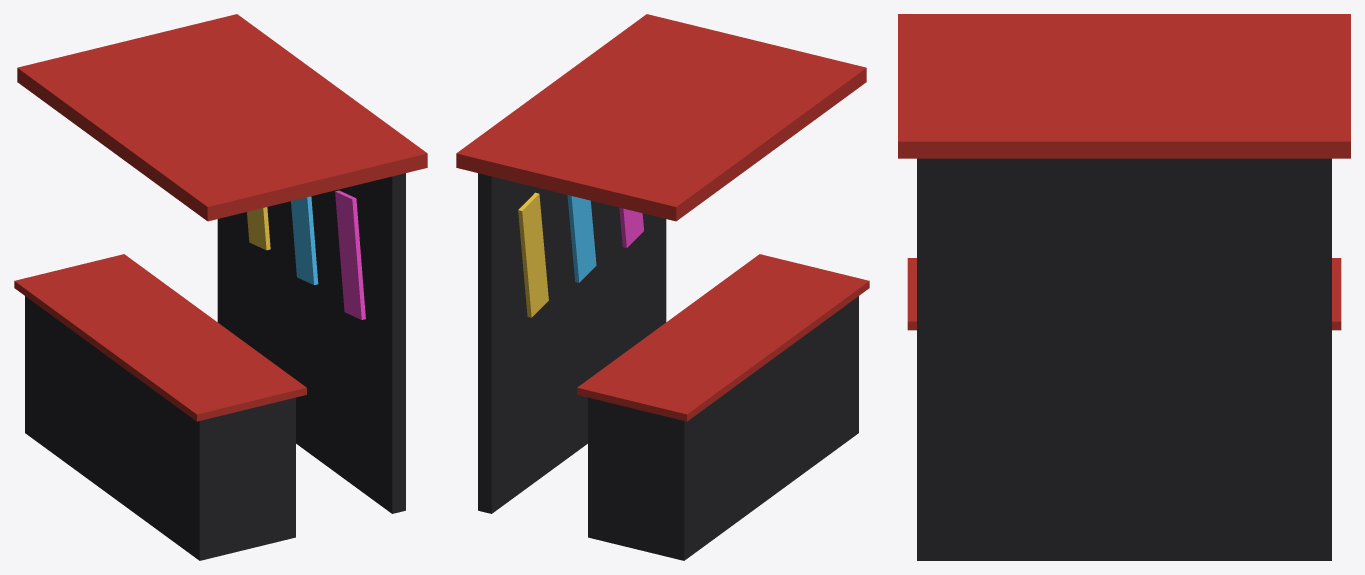
File: shred_shack.glb
The picture shows the model from 3 angles, left to right: view 1: azimuth 30°, elevation 25°; view 2: azimuth 150°, elevation 25°; view 3: azimuth 270°, elevation 25°; orthographic projection. The views are drawn at different scales.
Visible parts, largest first — view 1: Box4, Box3, Box1, Box2, Box7, Box6, Box5; view 2: Box4, Box3, Box1, Box2, Box5, Box6, Box7; view 3: Box3, Box4, Box2.
Boxes of the visible parts, left/top/right/bottom form: Box4: left=17, top=14, right=427, bottom=221; Box3: left=217, top=173, right=405, bottom=513; Box1: left=25, top=296, right=295, bottom=560; Box2: left=14, top=254, right=306, bottom=421; Box7: left=335, top=190, right=365, bottom=319; Box6: left=291, top=196, right=318, bottom=285; Box5: left=247, top=207, right=270, bottom=250; Box4: left=456, top=14, right=866, bottom=221; Box3: left=478, top=173, right=666, bottom=513; Box1: left=588, top=296, right=858, bottom=560; Box2: left=577, top=254, right=869, bottom=421; Box5: left=518, top=192, right=548, bottom=317; Box6: left=567, top=195, right=596, bottom=282; Box7: left=619, top=207, right=643, bottom=247; Box3: left=917, top=158, right=1331, bottom=560; Box4: left=898, top=14, right=1350, bottom=158; Box2: left=907, top=258, right=1341, bottom=330.
Size of the model in its own units: 1.65 by 2.5 by 2.4.
